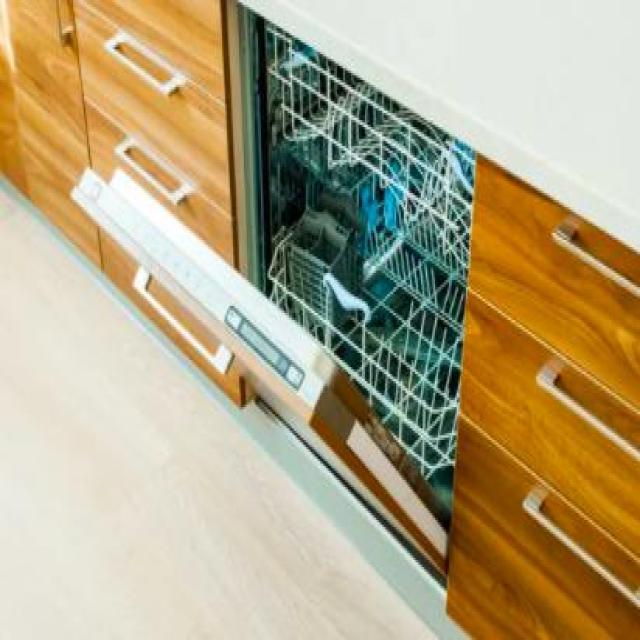dishwasher: (68, 0, 477, 638)
